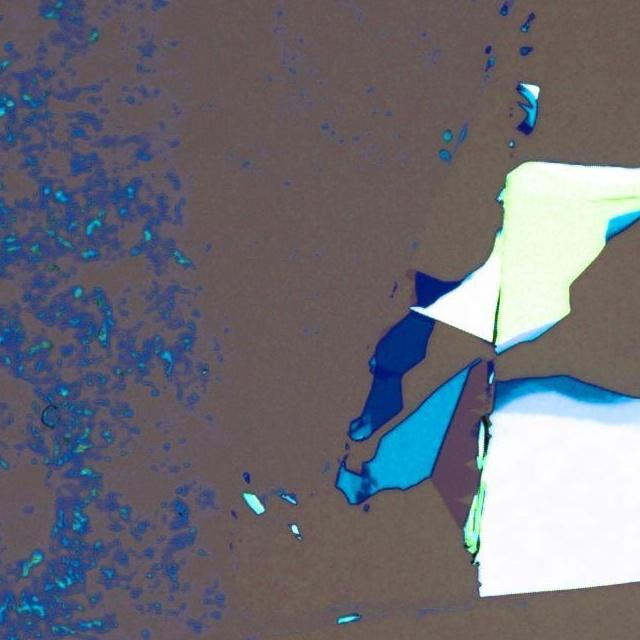monolayer-eWW4: (428, 355, 487, 530)
